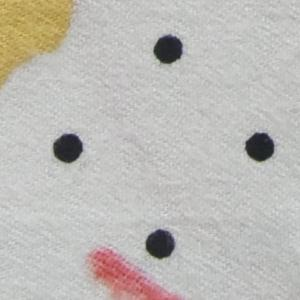Stain: (1, 1, 79, 96), (85, 242, 188, 300)
